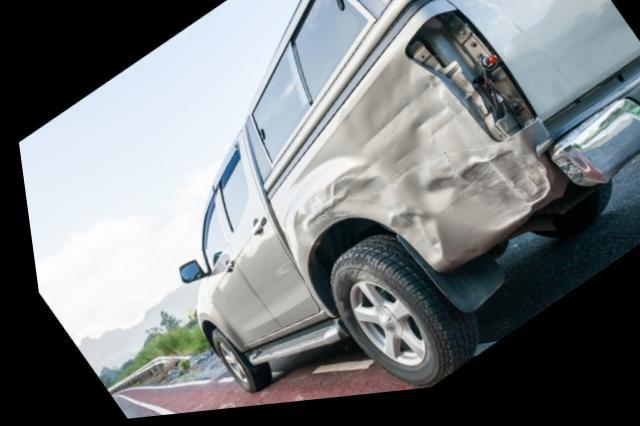dent: (287, 59, 540, 273)
no part: (402, 19, 532, 152)
